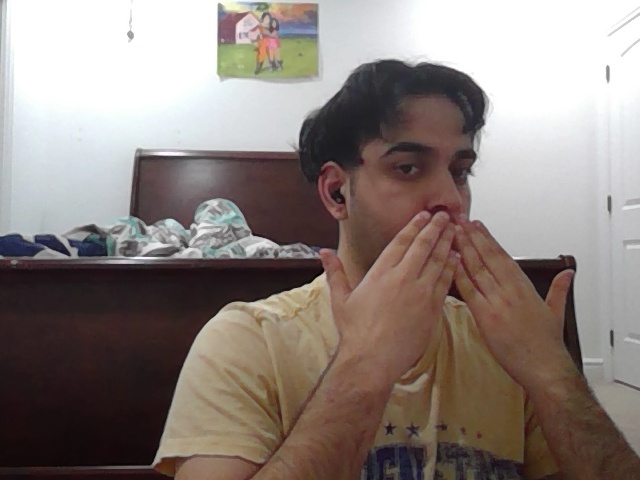Thank you: (319, 211, 590, 378)
